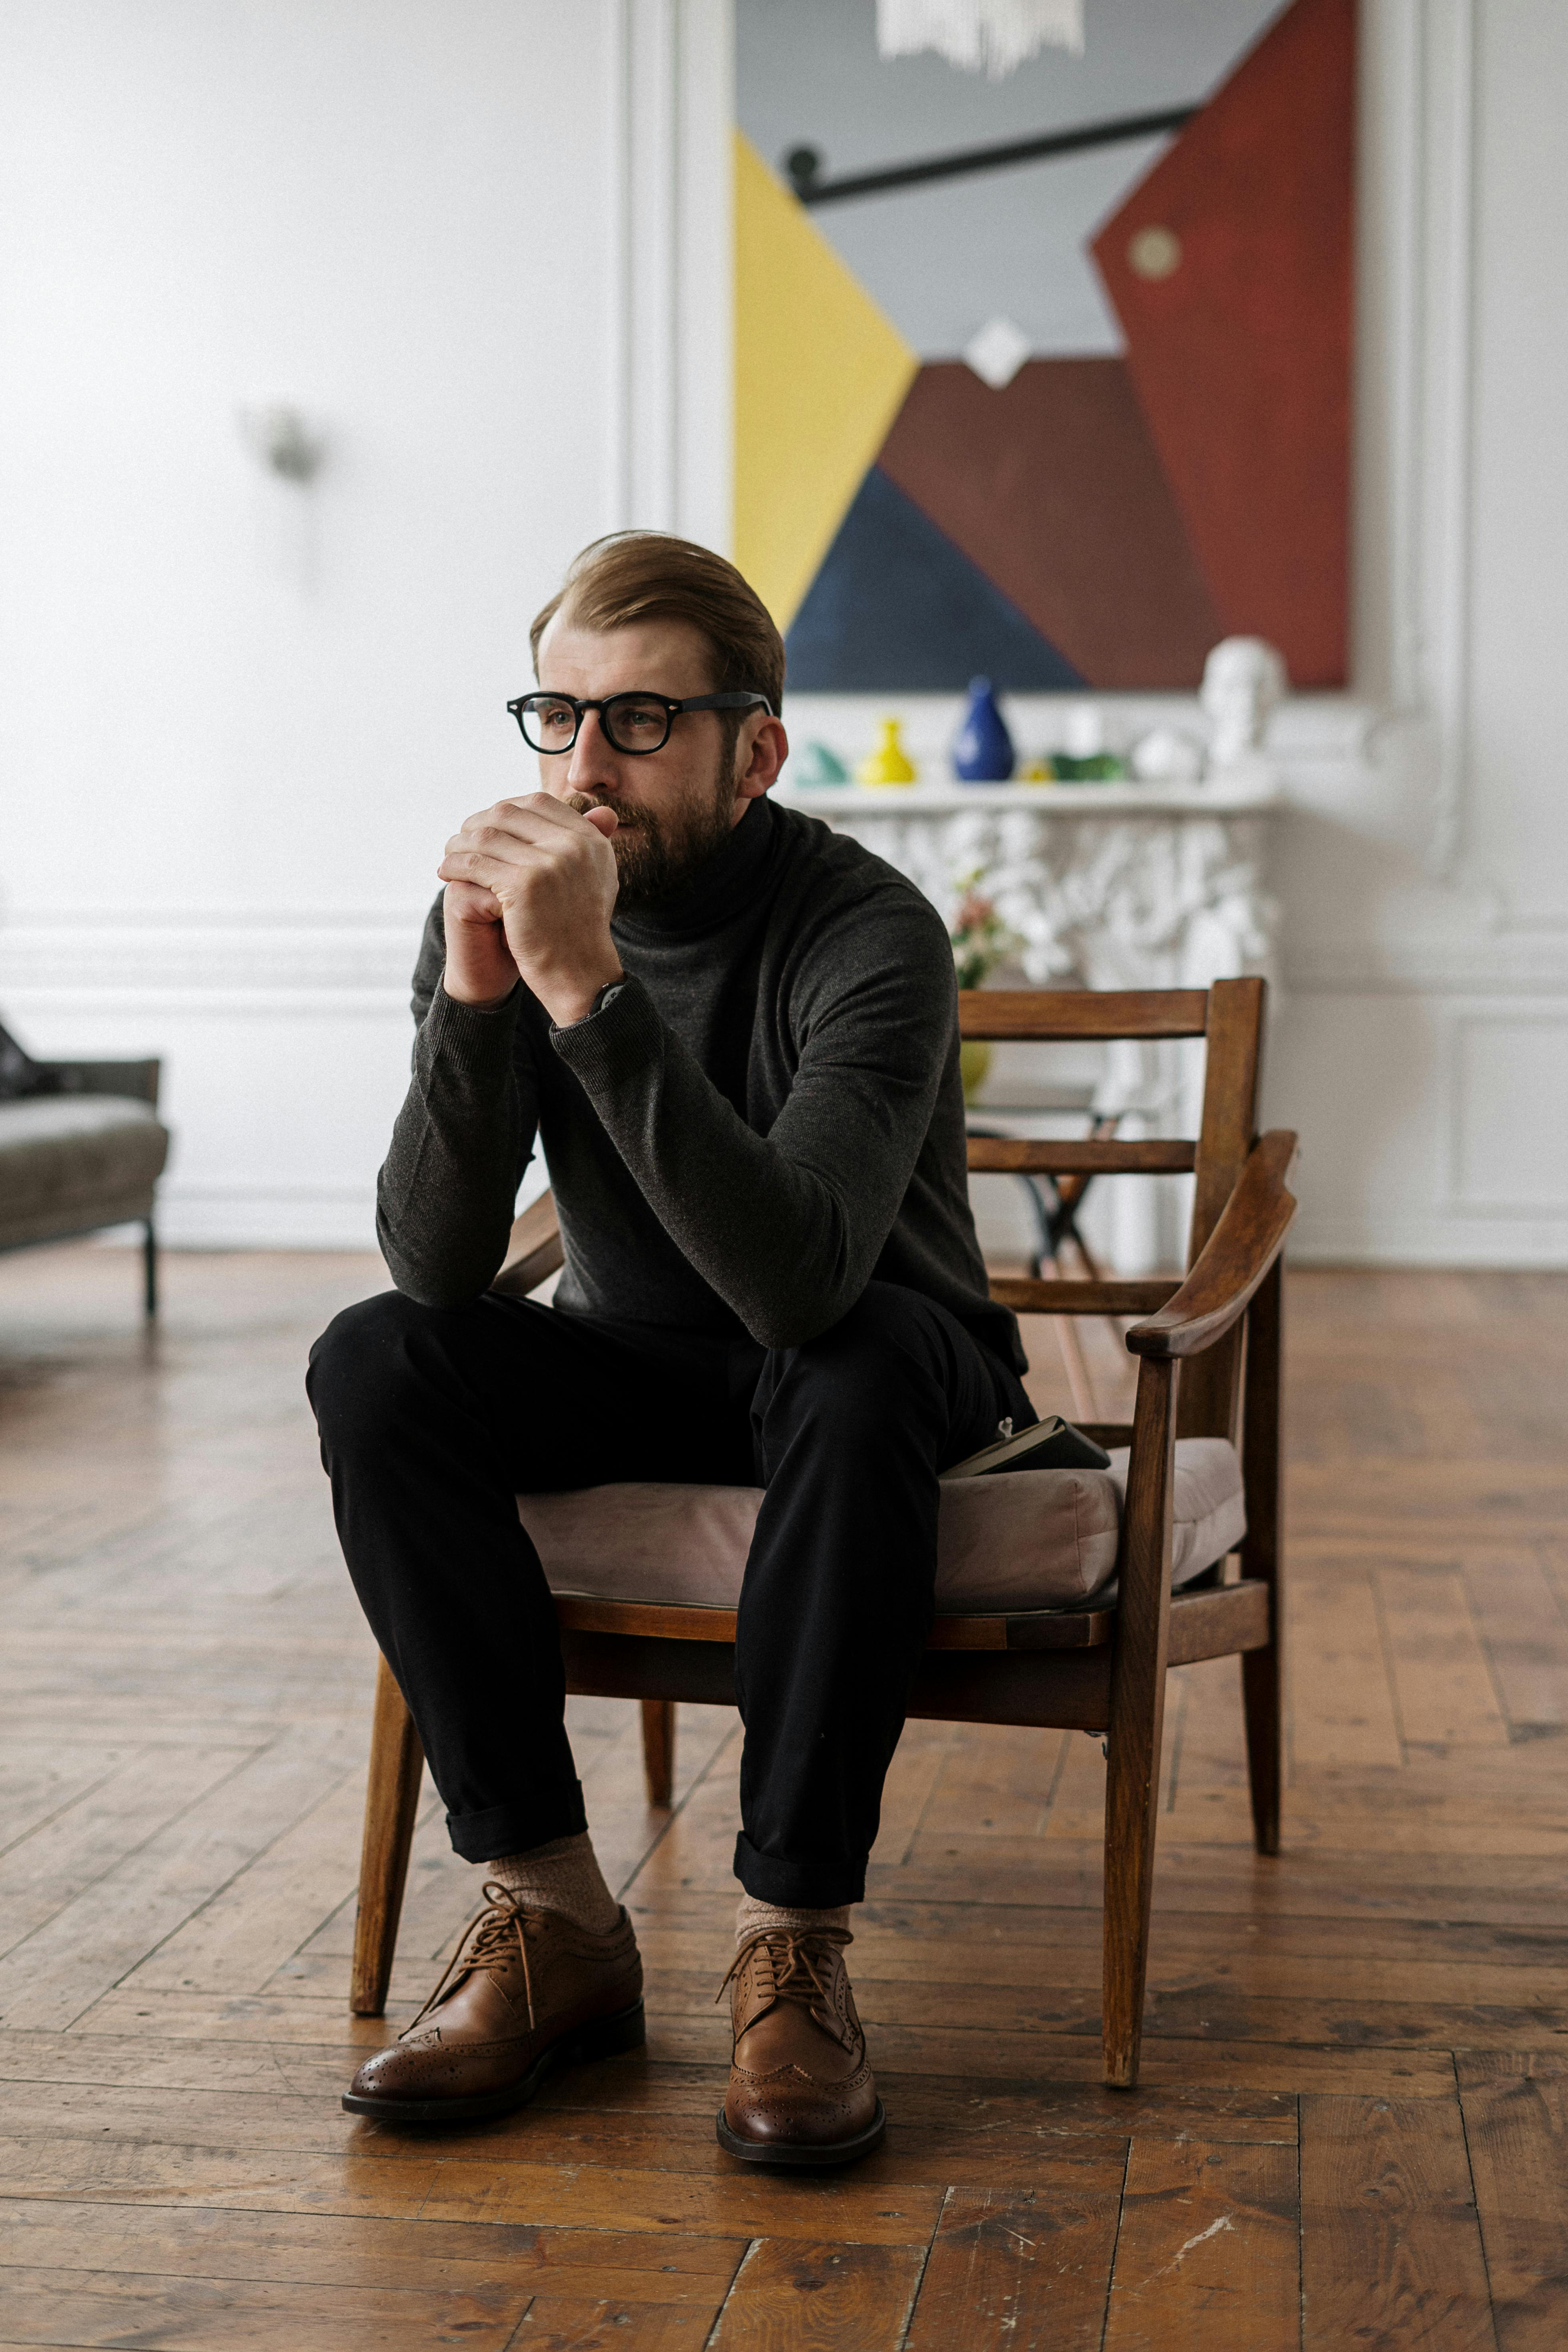Footwear: (310, 1883, 955, 2249), (350, 1908, 658, 2119), (695, 1913, 905, 2170)
